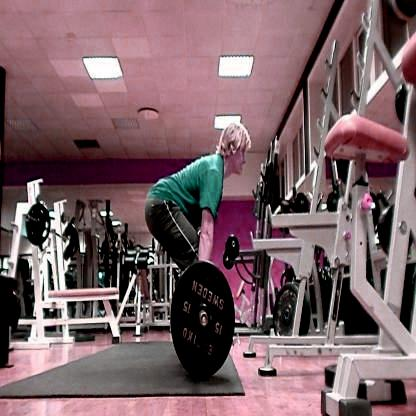Barbell: (199, 312, 210, 329)
